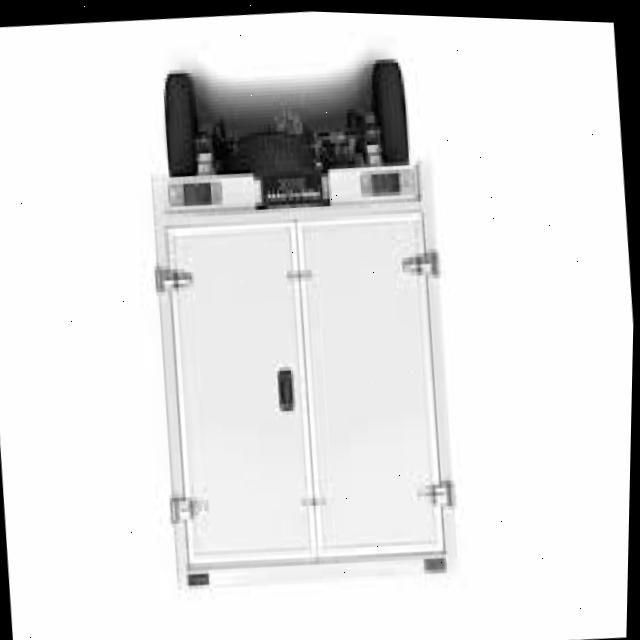truck: (134, 124, 479, 623)
